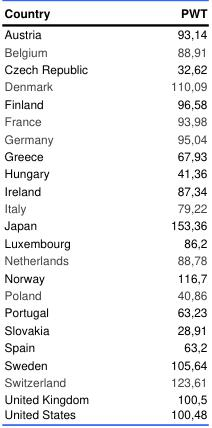table: (3, 3, 206, 421)
table column: (3, 3, 129, 421), (129, 3, 206, 421)
table column header: (3, 3, 206, 22)
table row: (3, 22, 206, 42), (3, 3, 206, 22), (3, 59, 206, 77), (3, 111, 206, 129), (3, 163, 206, 181), (3, 198, 206, 216), (3, 250, 206, 268), (3, 285, 206, 303), (3, 337, 206, 355), (3, 372, 206, 390), (3, 42, 206, 59), (3, 77, 206, 94), (3, 94, 206, 111), (3, 129, 206, 146), (3, 146, 206, 163), (3, 181, 206, 198), (3, 216, 206, 233), (3, 233, 206, 250), (3, 268, 206, 285), (3, 303, 206, 320), (3, 320, 206, 337), (3, 355, 206, 372), (3, 390, 206, 406), (3, 406, 206, 421)
